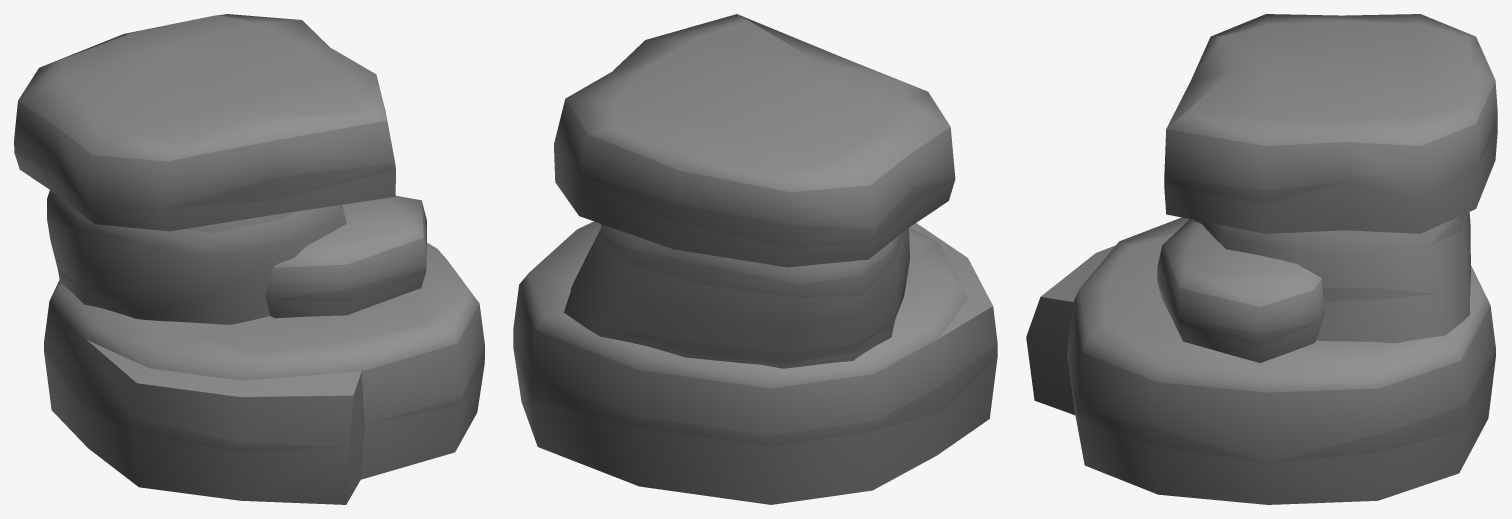
Rendered from MountainDesert_1.fbx.
3 views of the same model, side by side, from view 1: azimuth 30°, elevation 25°; view 2: azimuth 150°, elevation 25°; view 3: azimuth 270°, elevation 25° (orthographic). The views are drawn at different scales.
Parts seen in each view (by area): view 1: Mountain_1; view 2: Mountain_1; view 3: Mountain_1.
Part boxes in pixels (<box>): Mountain_1: <box>14,14,484,504</box>; Mountain_1: <box>513,14,997,504</box>; Mountain_1: <box>1026,14,1497,504</box>.
Bounding box in the file's own units: 1030 × 1117 × 875.
